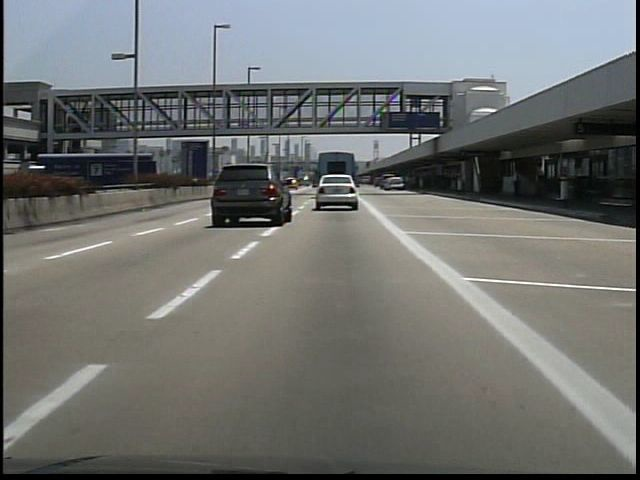person: (506, 168, 527, 205)
